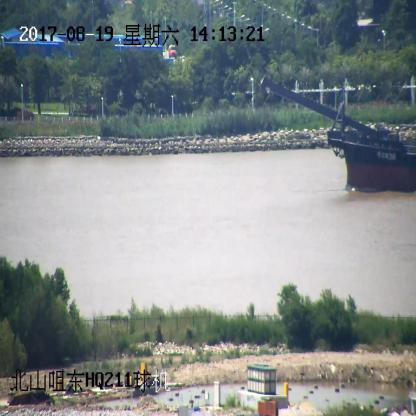Bulk Carrier: (265, 78, 415, 193)
